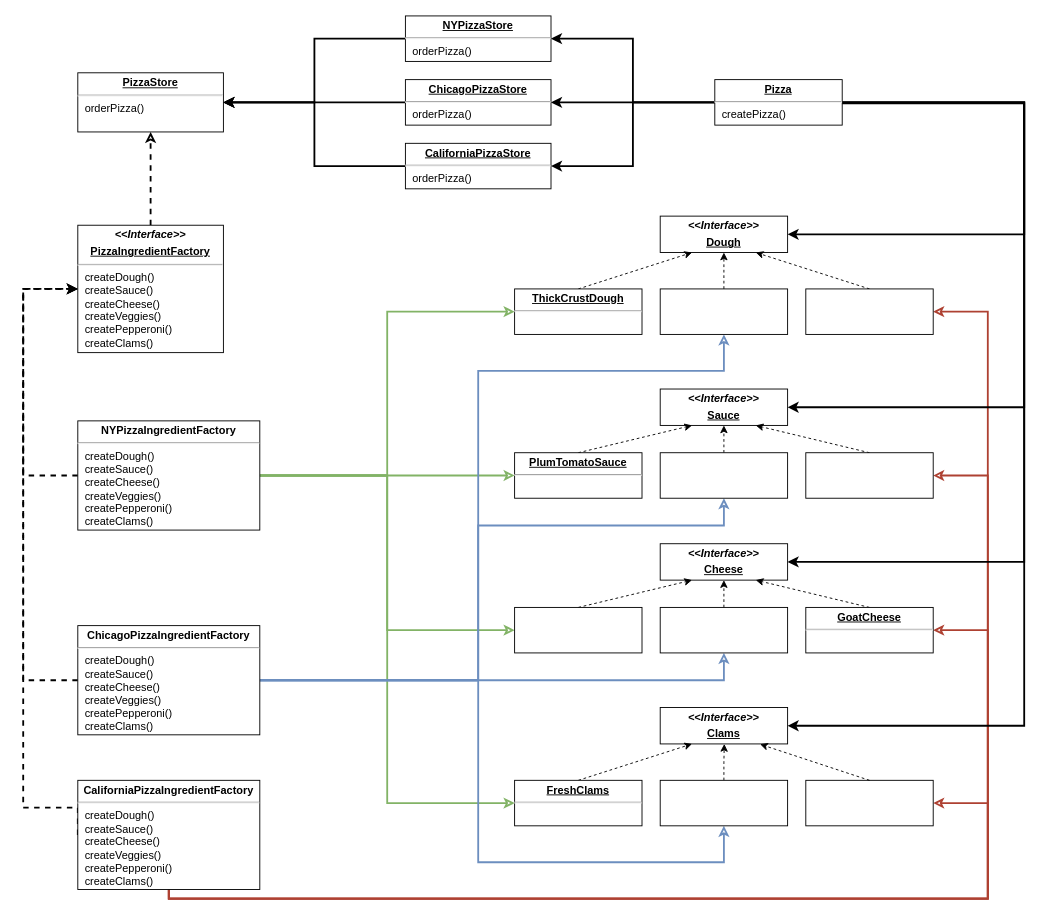
This 1047x923 diagram has some shape labels left out. Each missing label, with the centre of its shape:
BruschettaSauce: the point at 869,475
Calamari: the point at 869,802
FrozenClams: the point at 723,802
MarinaraSauce: the point at 723,475
MozarellaCheese: the point at 578,630
ReggianoCheese: the point at 723,630
ThinCrustDough: the point at 869,311
VeryThinCrust: the point at 723,311
